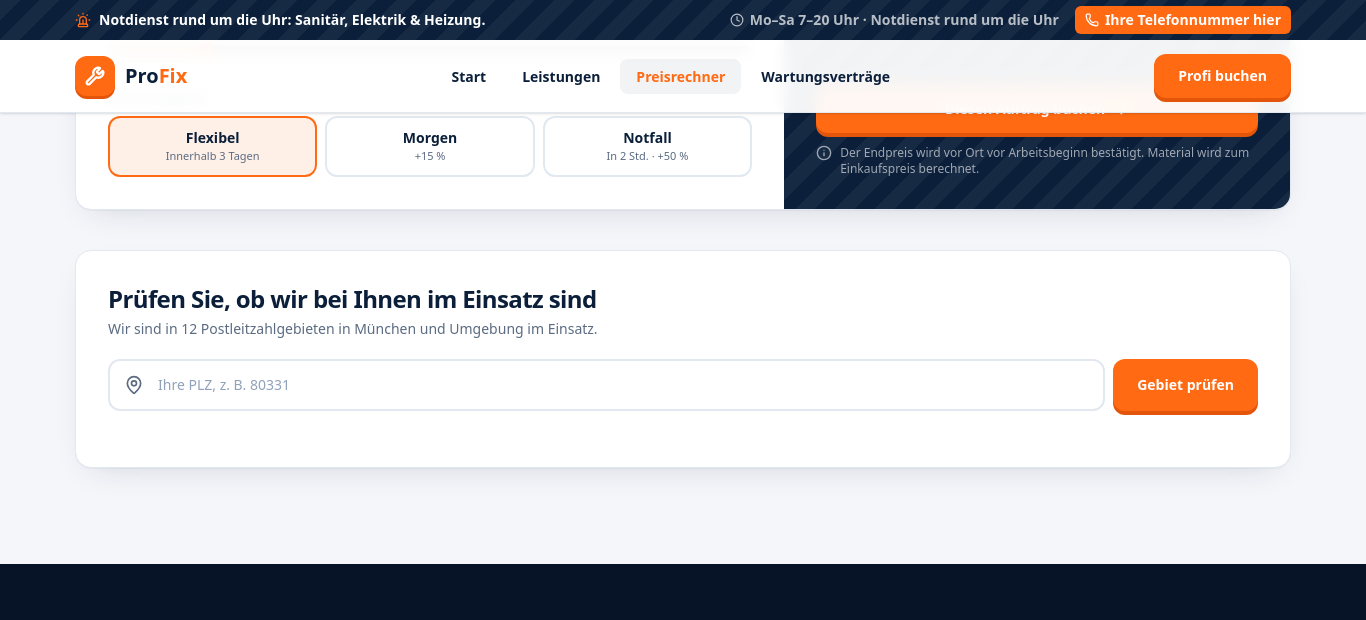
Scenario: zip checker › uses the API result
(page scrolled)
Type "85737" into the field named "Postleitzahl" at (607, 384), box [108,358,1105,410]
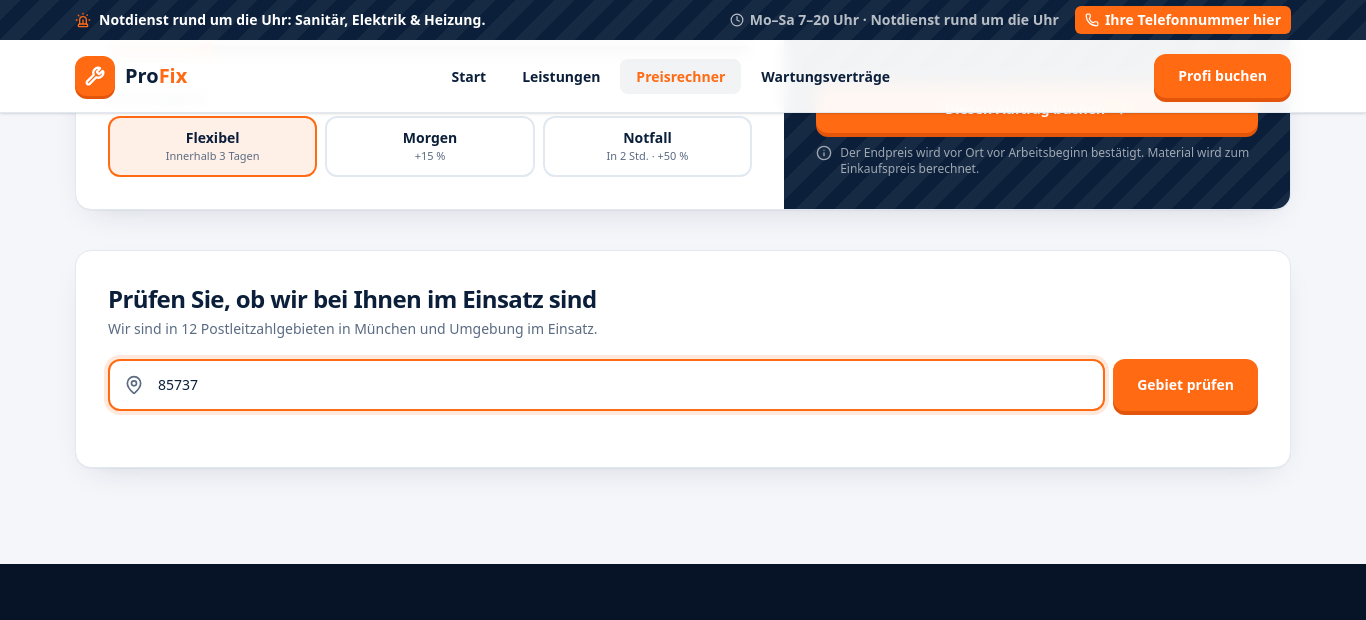
Click the button "Gebiet prüfen" at (1186, 384), box [1113,358,1258,410]
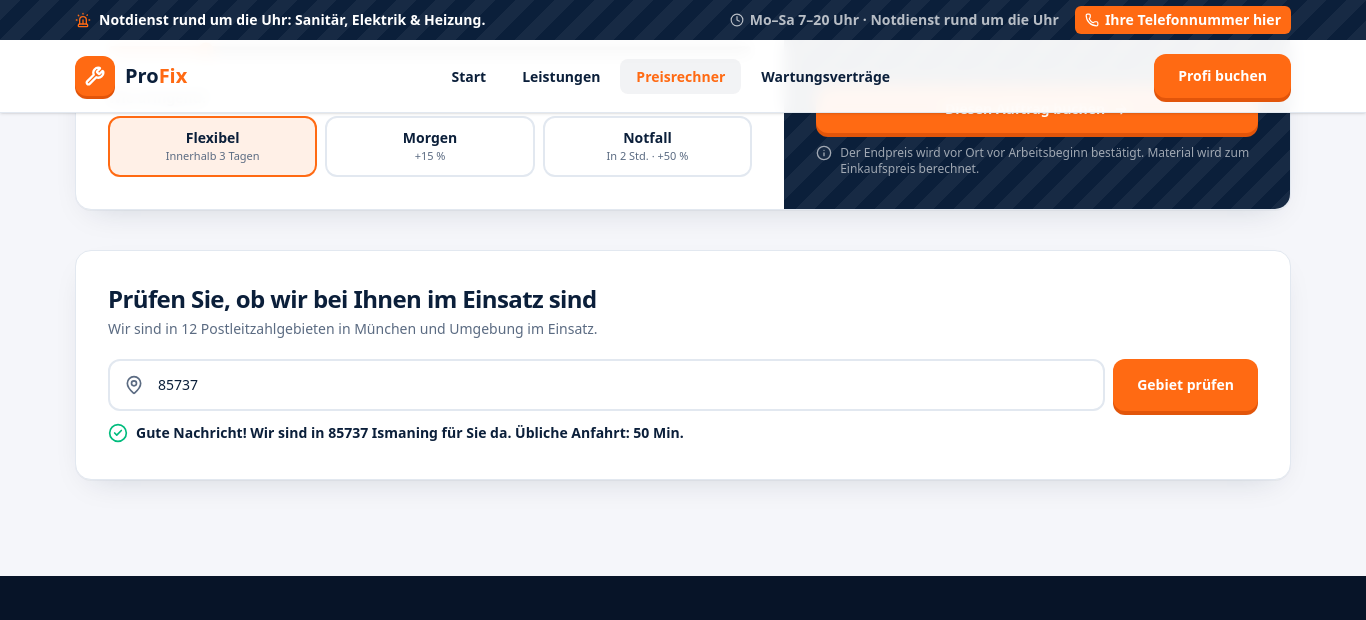
Expected: the text "85737 Ismaning" is shown, [108,422,684,442]
